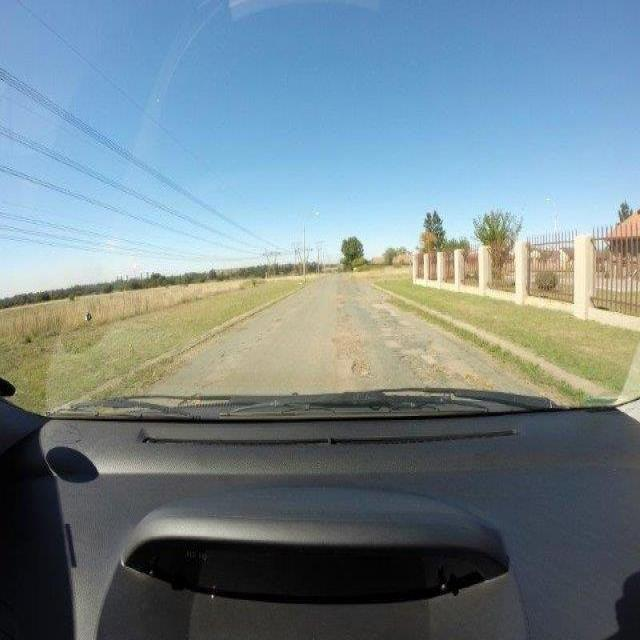lubang: (393, 348, 455, 386), (381, 328, 442, 356), (326, 328, 375, 359), (364, 298, 404, 334), (459, 364, 503, 389), (348, 354, 380, 388), (334, 308, 359, 332), (332, 289, 350, 306)
